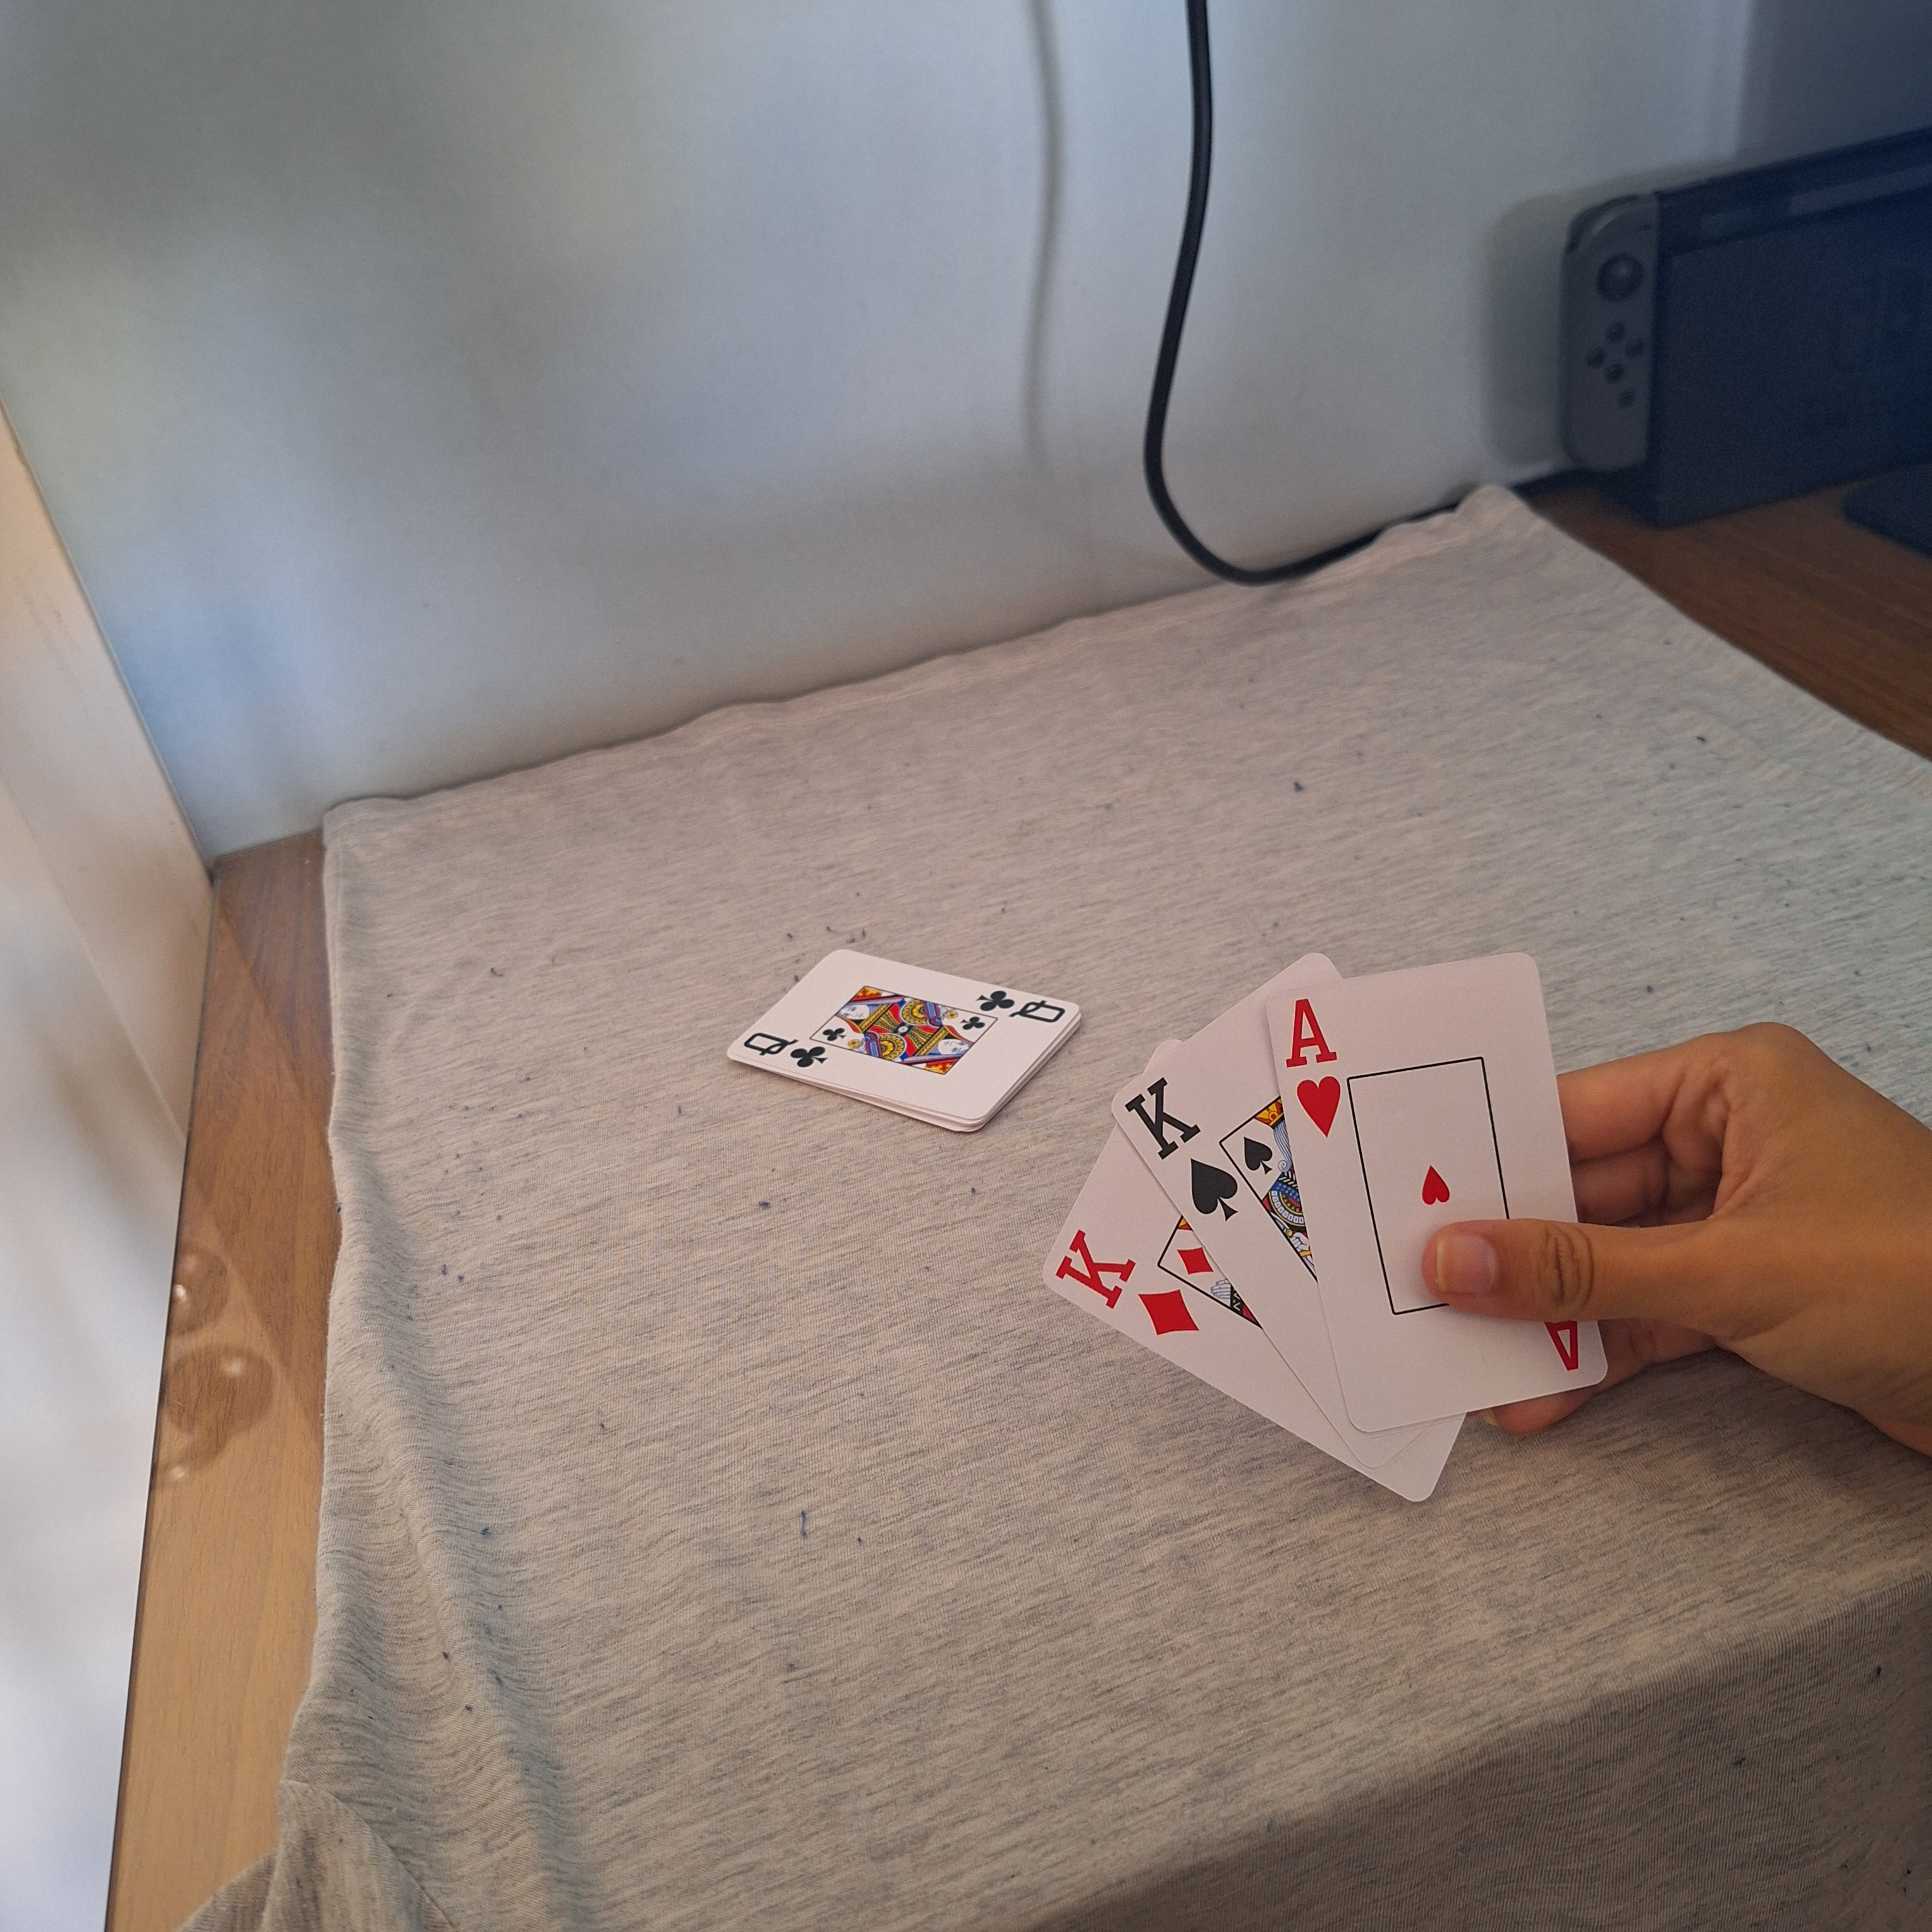AC: (1283, 994, 1348, 1143)
KE: (1122, 1076, 1244, 1221)
KO: (1051, 1224, 1201, 1339)
QP: (975, 987, 1067, 1030), (741, 1030, 828, 1070)
